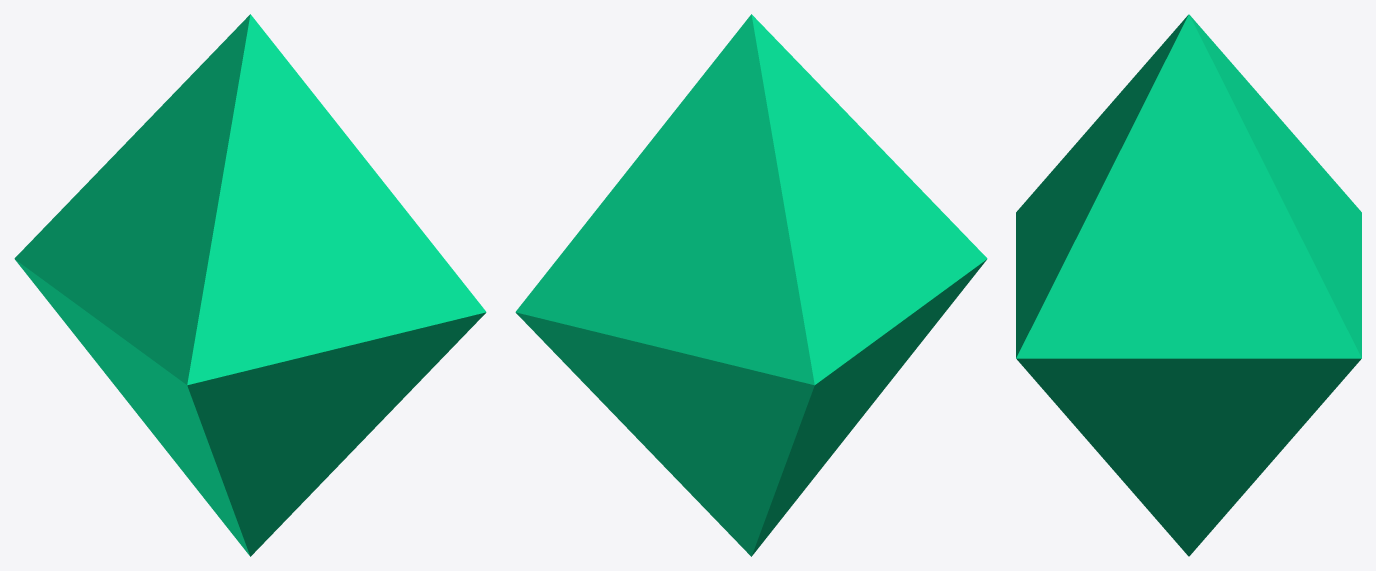
Rendered from DroneFDOWN.fbx.
The picture shows the model from 3 angles, left to right: view 1: azimuth 30°, elevation 25°; view 2: azimuth 150°, elevation 25°; view 3: azimuth 270°, elevation 25°; orthographic projection.
Parts seen in each view (by area): view 1: Cube; view 2: Cube; view 3: Cube.
Boxes of the visible parts, left/top/right/bottom form: Cube: left=14, top=14, right=486, bottom=556; Cube: left=515, top=14, right=987, bottom=556; Cube: left=1016, top=14, right=1361, bottom=556.
Bounding box in the file's own units: 200 × 346 × 200.
